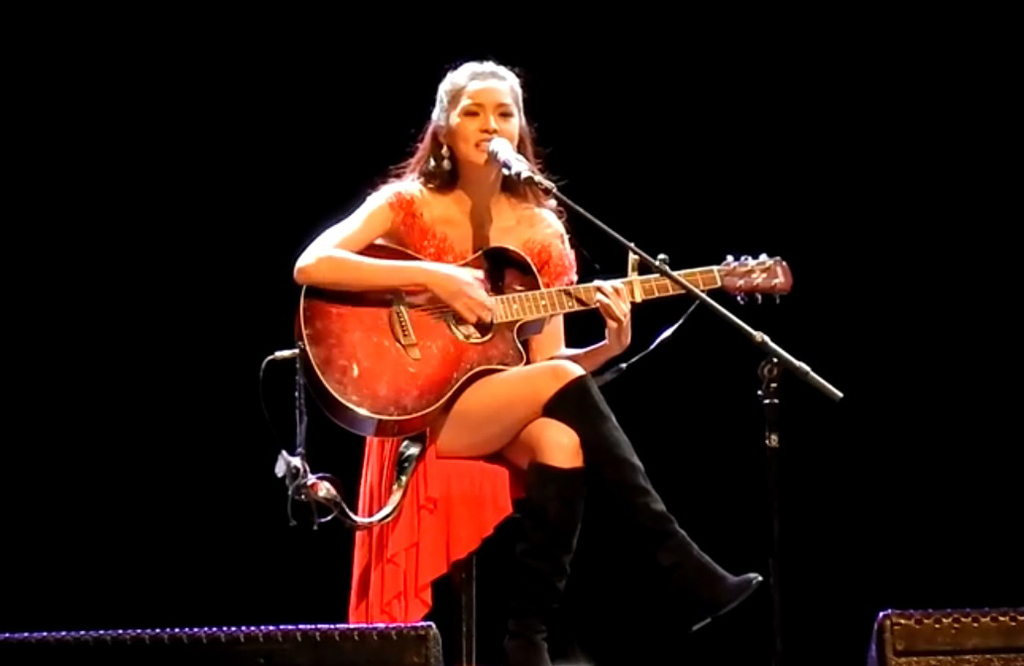Person: (284, 57, 769, 664)
